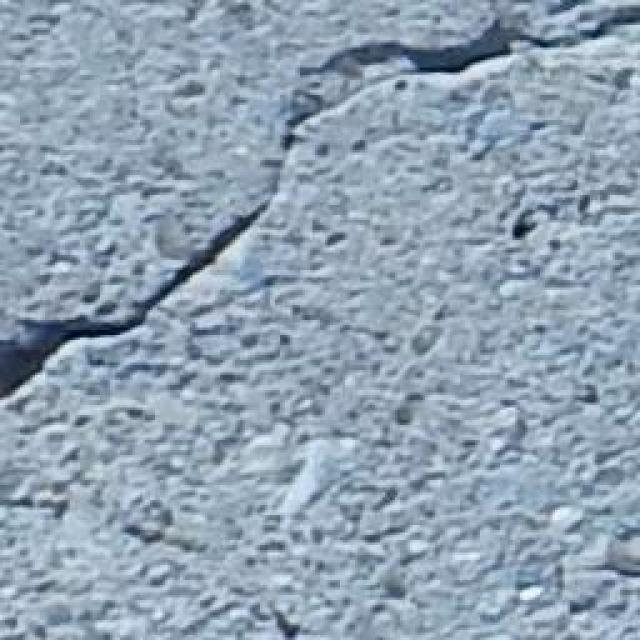concrete-crack: (3, 3, 640, 410)
